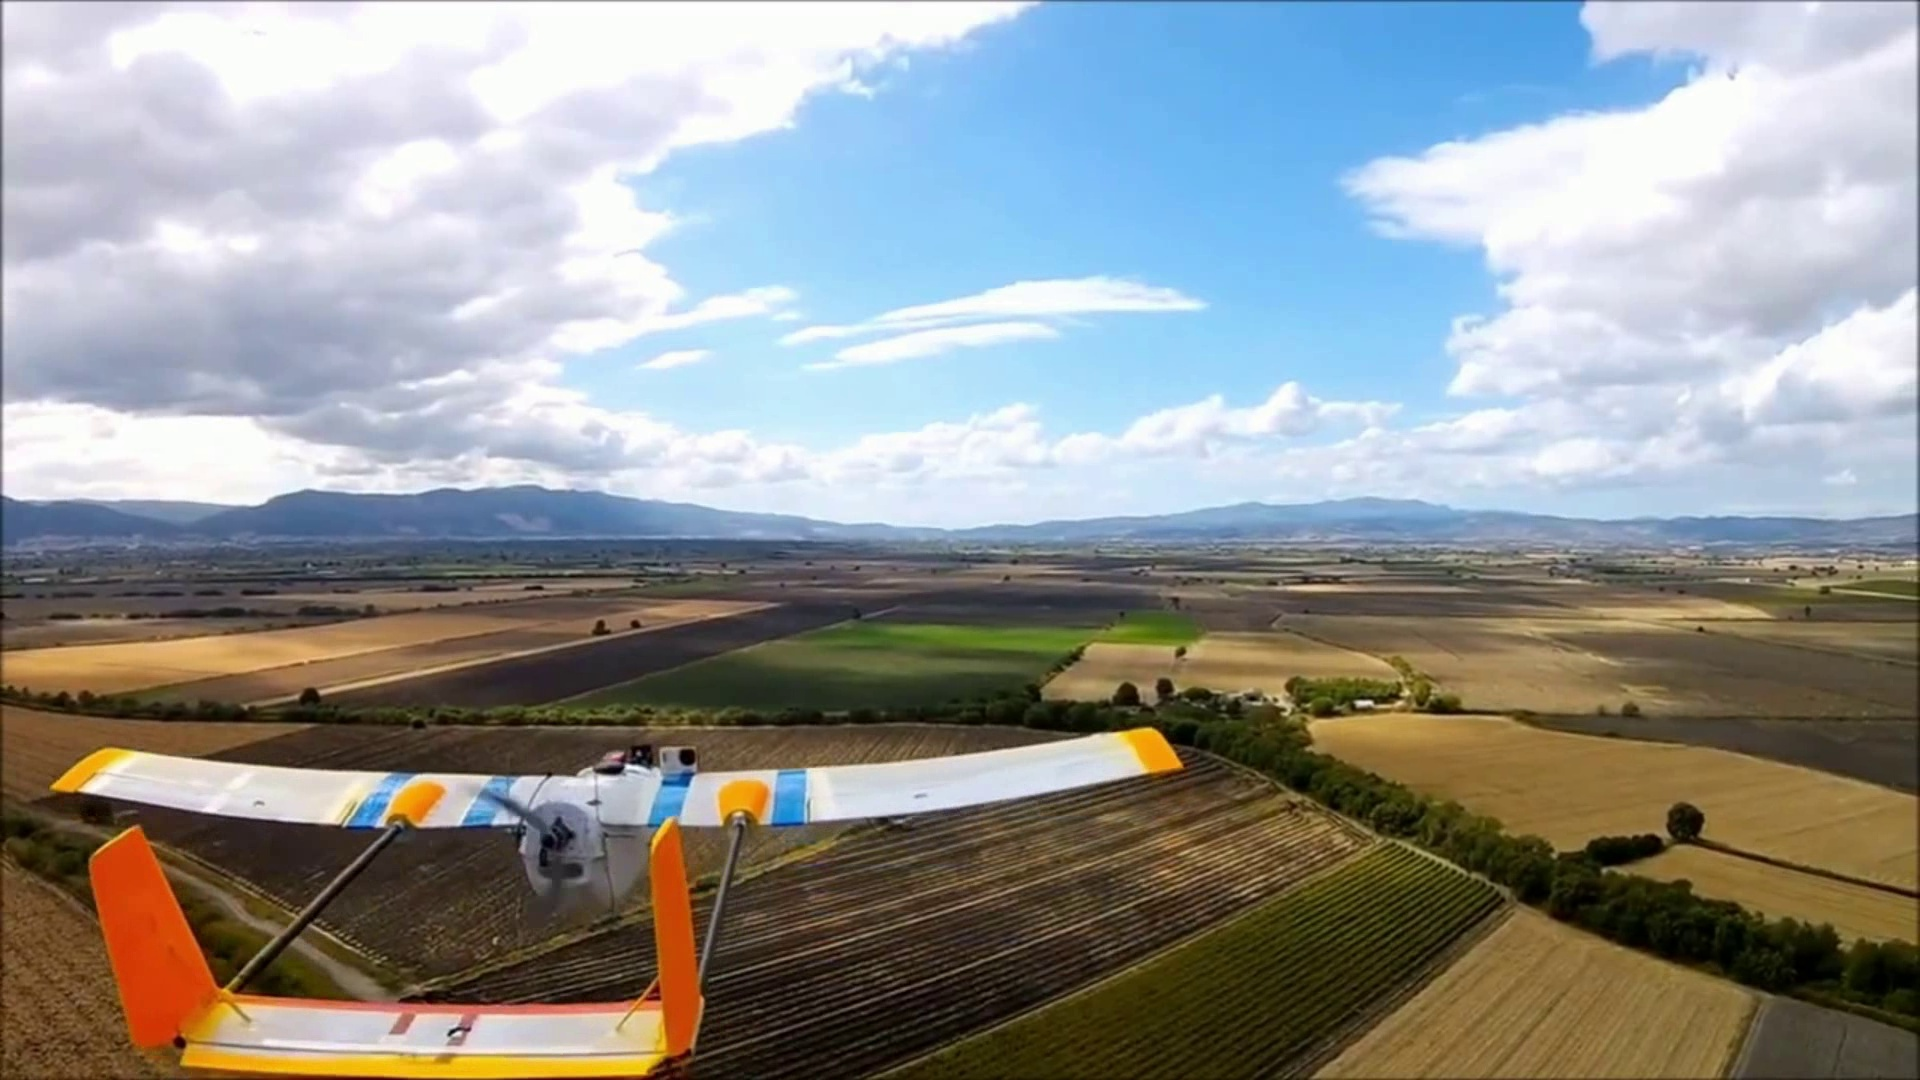airplane: (51, 732, 1189, 1065)
